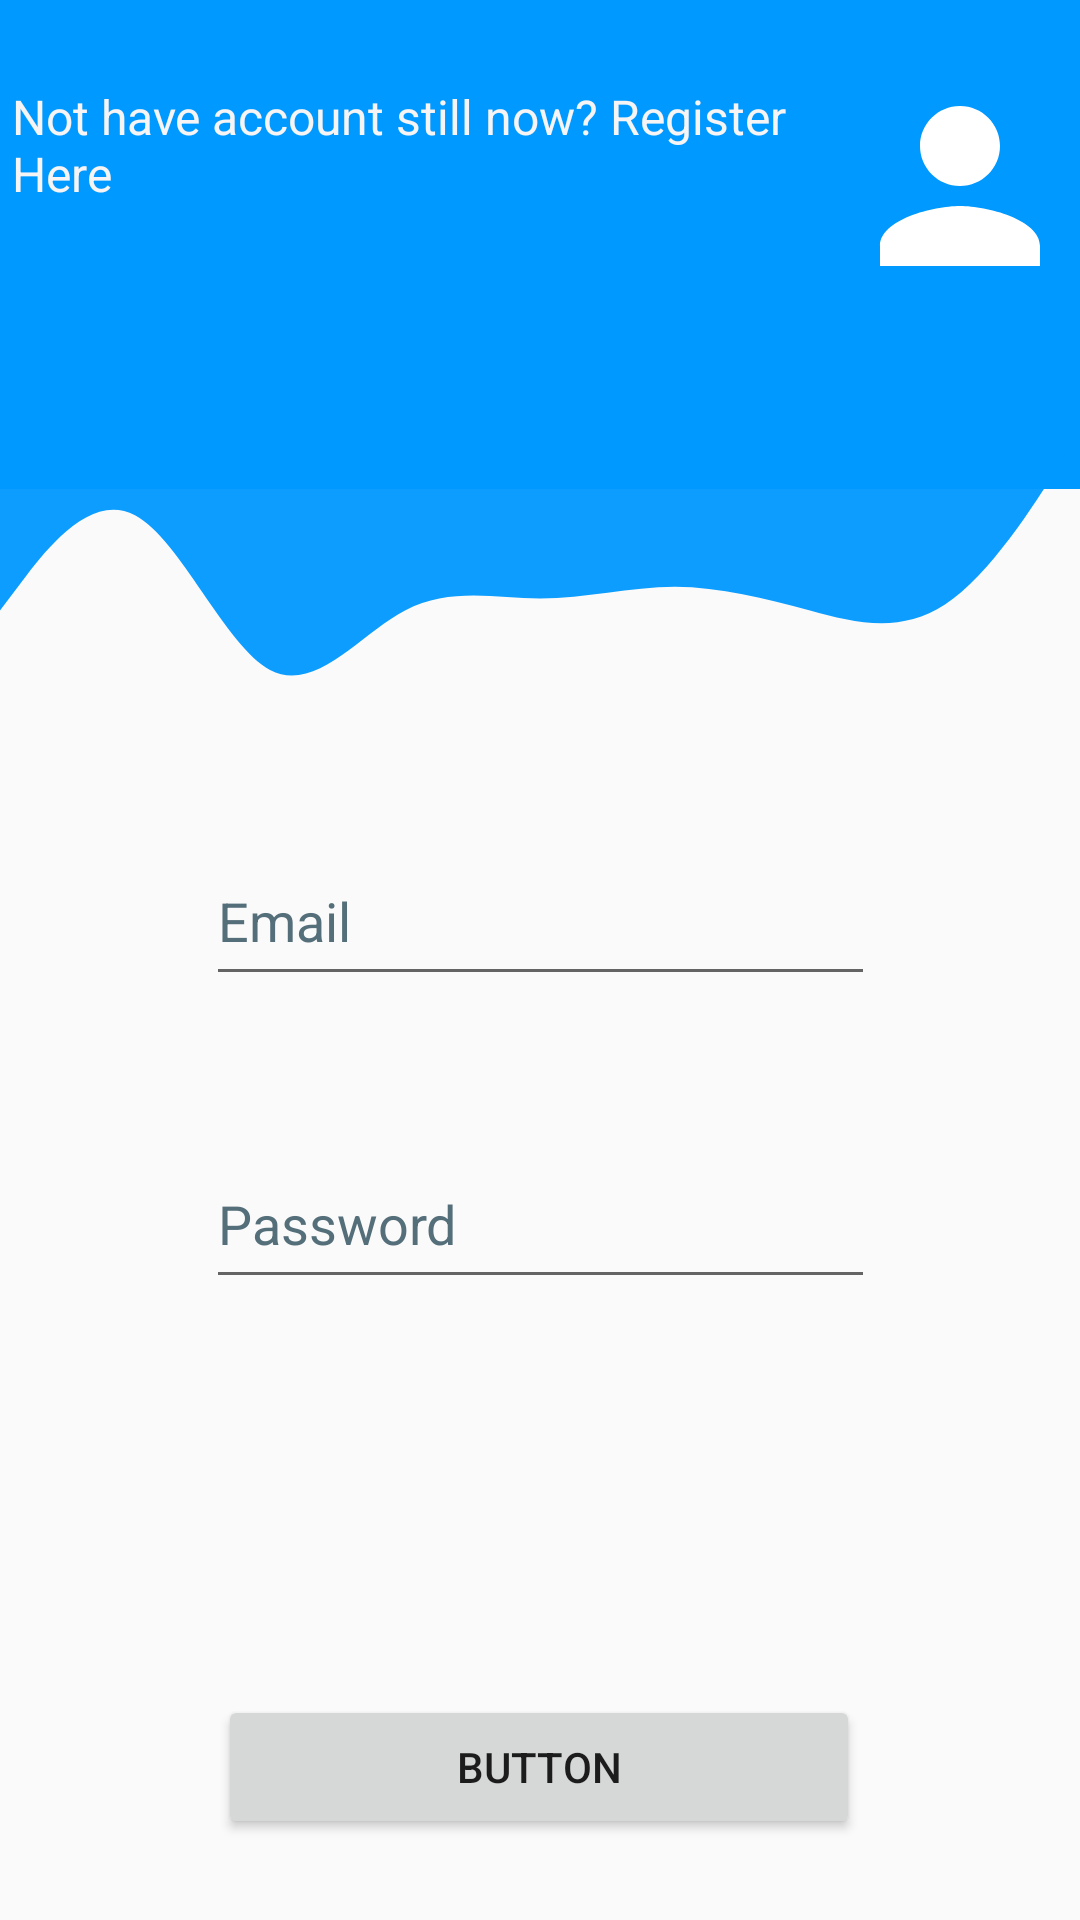

Locate icon controls on the screen. Image size 1080x1920, boxes as BBox(x1, y1, x2, y2).
Profile: BBox(880, 106, 1040, 266)
